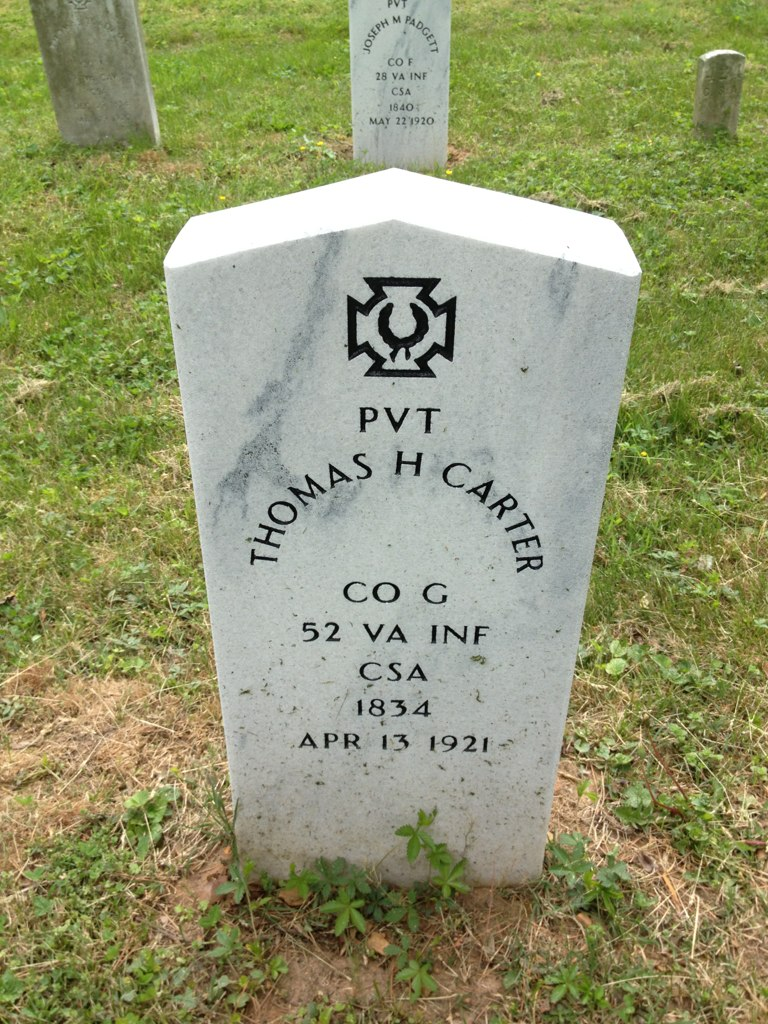military: (160, 165, 642, 891)
